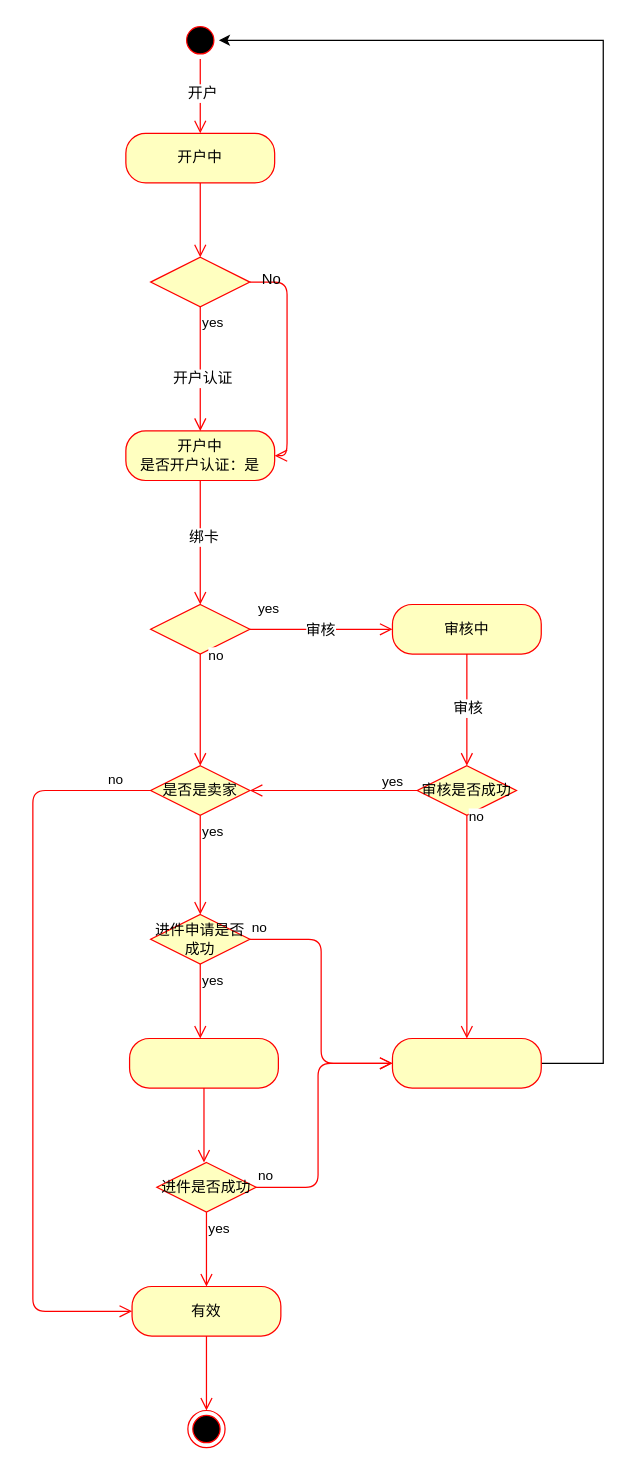
The diagram is 635 pixels wide and 1469 high, and some of its shapes have lost their labels. Here are the shapes that lost their labels. From the top down, the centre of each, then its label:
At point 199,281: "是否需要短信验证".
At point 199,628: "是否需要开户审核".
At point 203,1062: "进件中".
At point 466,1062: "审核未通过".
